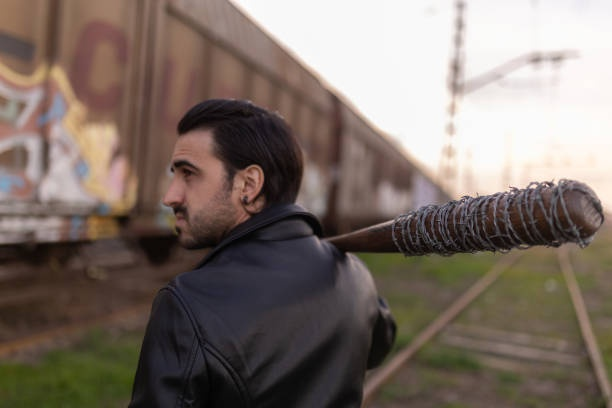bita: (320, 186, 602, 261)
